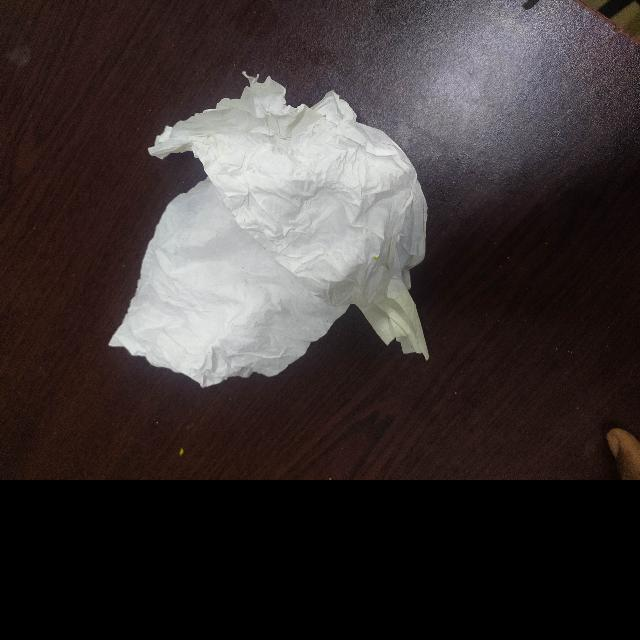kitchen paper: (99, 68, 435, 390)
